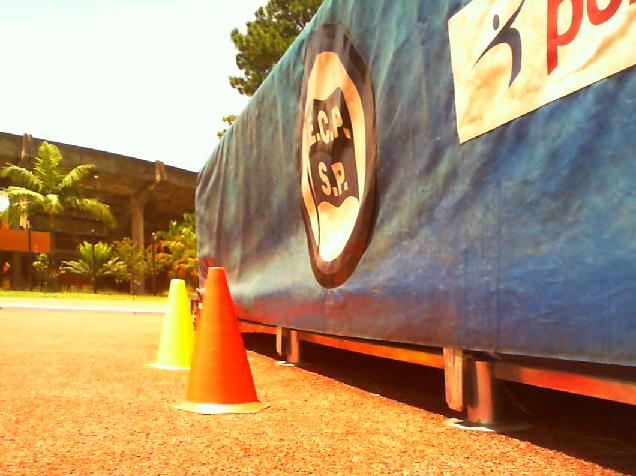0 cone: (177, 268, 269, 415), (147, 278, 195, 369)
